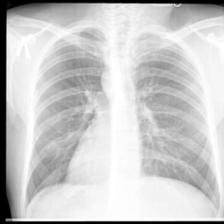tuberculosis: (20, 16, 224, 213)
